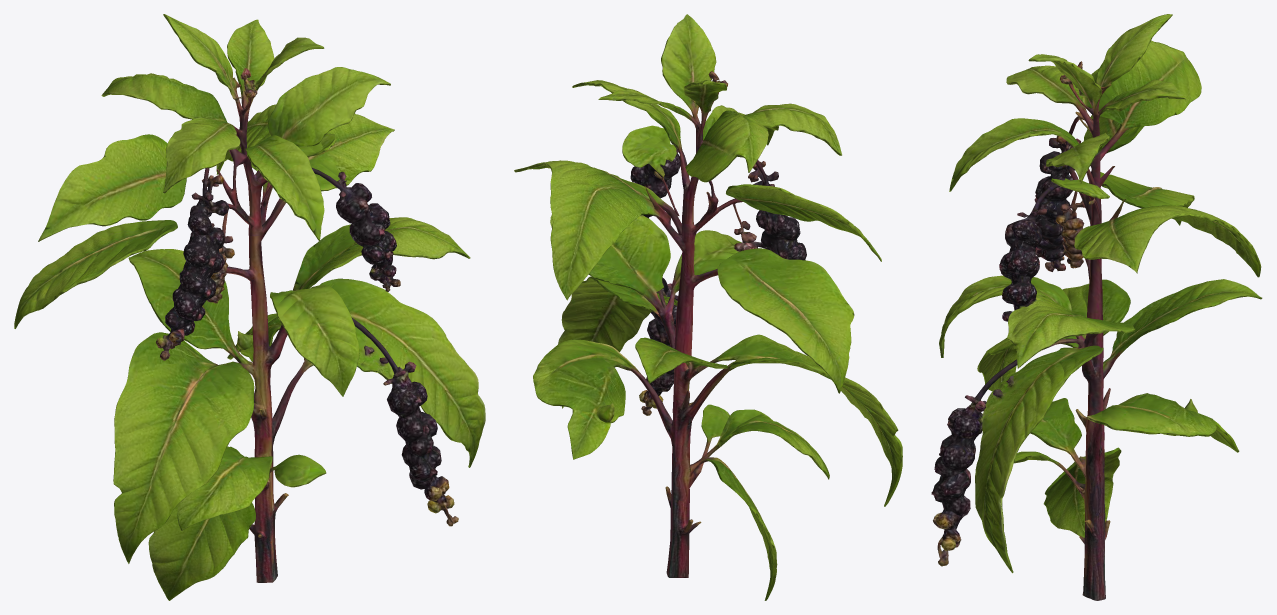
File: Pokeweed.glb
3 views of the same model, side by side, from view 1: azimuth 30°, elevation 25°; view 2: azimuth 150°, elevation 25°; view 3: azimuth 270°, elevation 25° (orthographic). The views are drawn at different scales.
Visible parts, largest first — view 1: Mesh_0; view 2: Mesh_0; view 3: Mesh_0.
Part boxes in pixels (x1=…): Mesh_0: x1=14, y1=14, x2=485, y2=600; Mesh_0: x1=514, y1=14, x2=902, y2=600; Mesh_0: x1=931, y1=14, x2=1262, y2=600.
Size of the model in its own units: 0.74 by 1 by 0.5429.
1 material, 1 textured.
